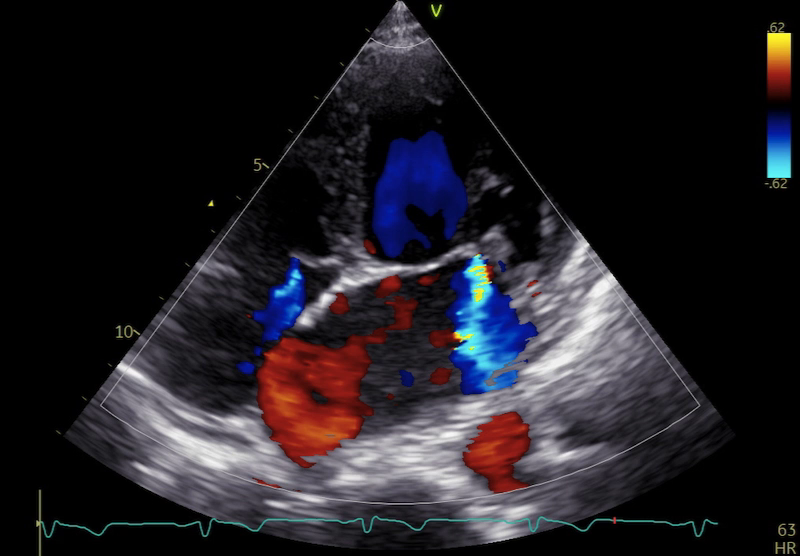MR: (374, 225, 519, 330)
